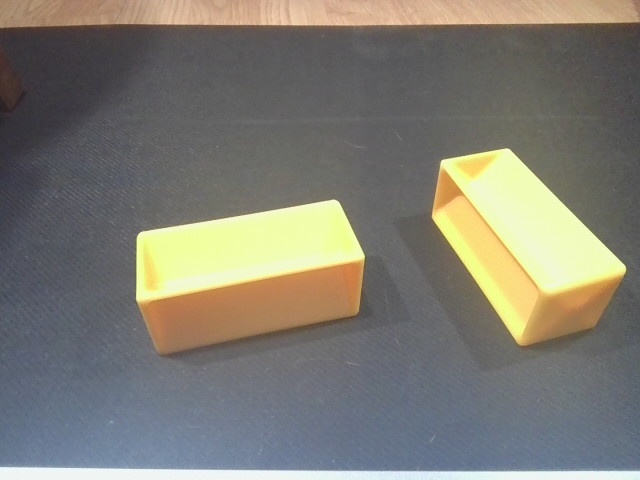YellowSample: (427, 145, 631, 350), (130, 194, 370, 357)
